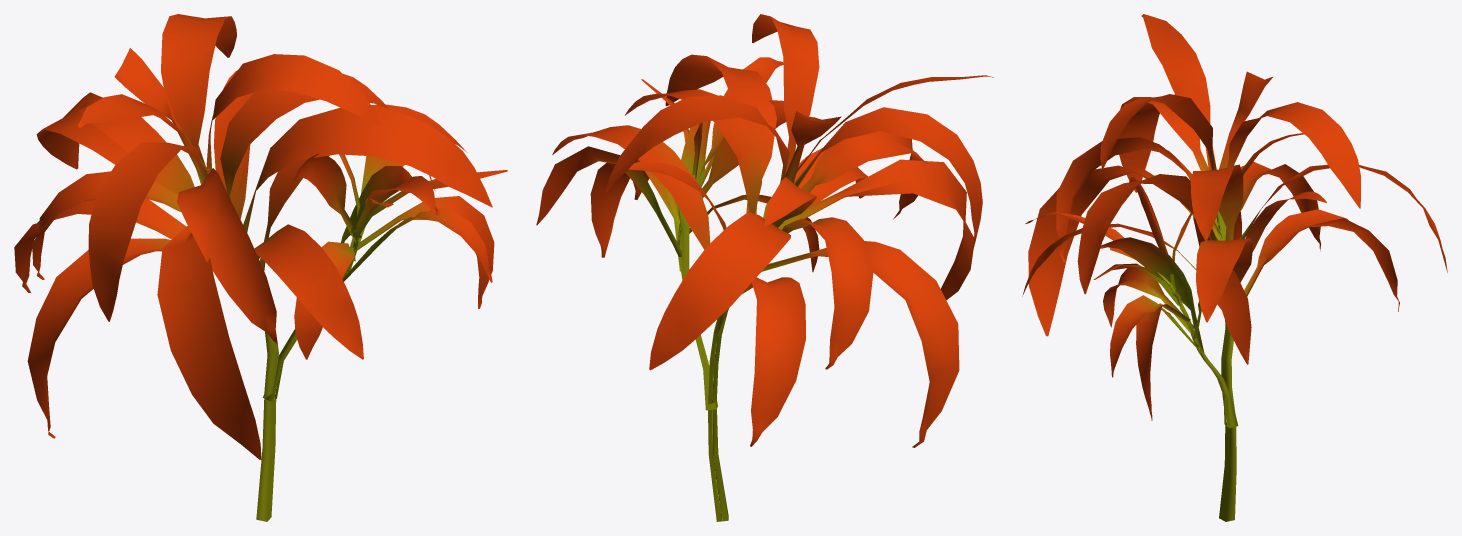
File: Pink Cordyline_LOD1_Var6_sfhhN.fbx
The picture shows the model from 3 angles, left to right: view 1: azimuth 30°, elevation 25°; view 2: azimuth 150°, elevation 25°; view 3: azimuth 270°, elevation 25°; orthographic projection. The views are drawn at different scales.
Visible parts, largest first — view 1: _3129_Var6_LOD1; view 2: _3129_Var6_LOD1; view 3: _3129_Var6_LOD1.
Part boxes in pixels (x1=…): _3129_Var6_LOD1: x1=14, y1=14, x2=507, y2=521; _3129_Var6_LOD1: x1=536, y1=14, x2=993, y2=521; _3129_Var6_LOD1: x1=1022, y1=14, x2=1447, y2=521.
Size of the model in its own units: 85.68 by 95.34 by 88.06.
